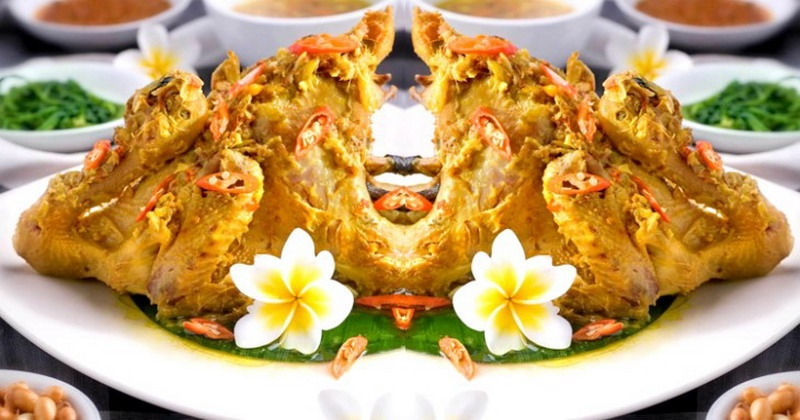ayam_betutu: (412, 8, 791, 229), (12, 10, 394, 229)
